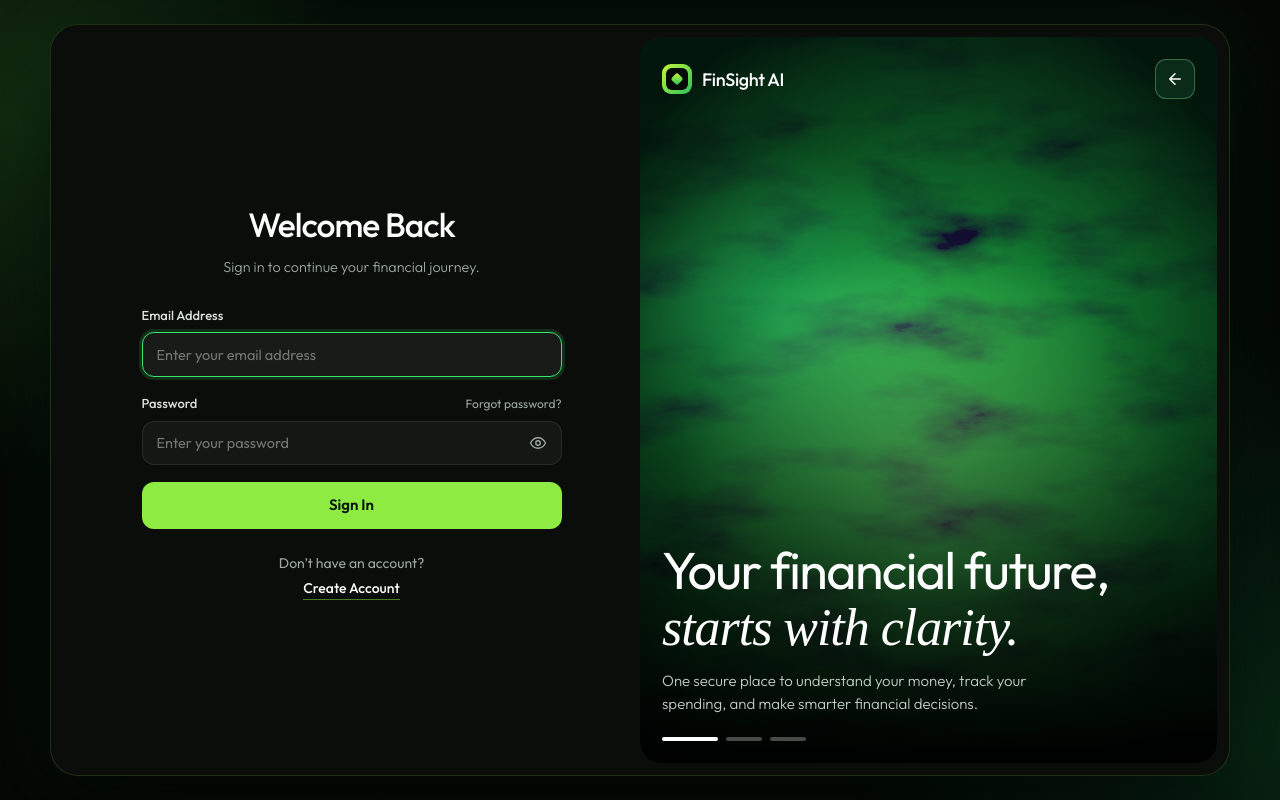
Frontend Authentication and User Management Pages › renders login form and handles invalid credentials
Check: the heading "Welcome Back" is shown, box x1=248 y1=203 x2=455 y2=246
Type "user@example.in" into the field with placeholder "Enter your email address" at x=352, y=355, box x1=142 y1=332 x2=562 y2=377
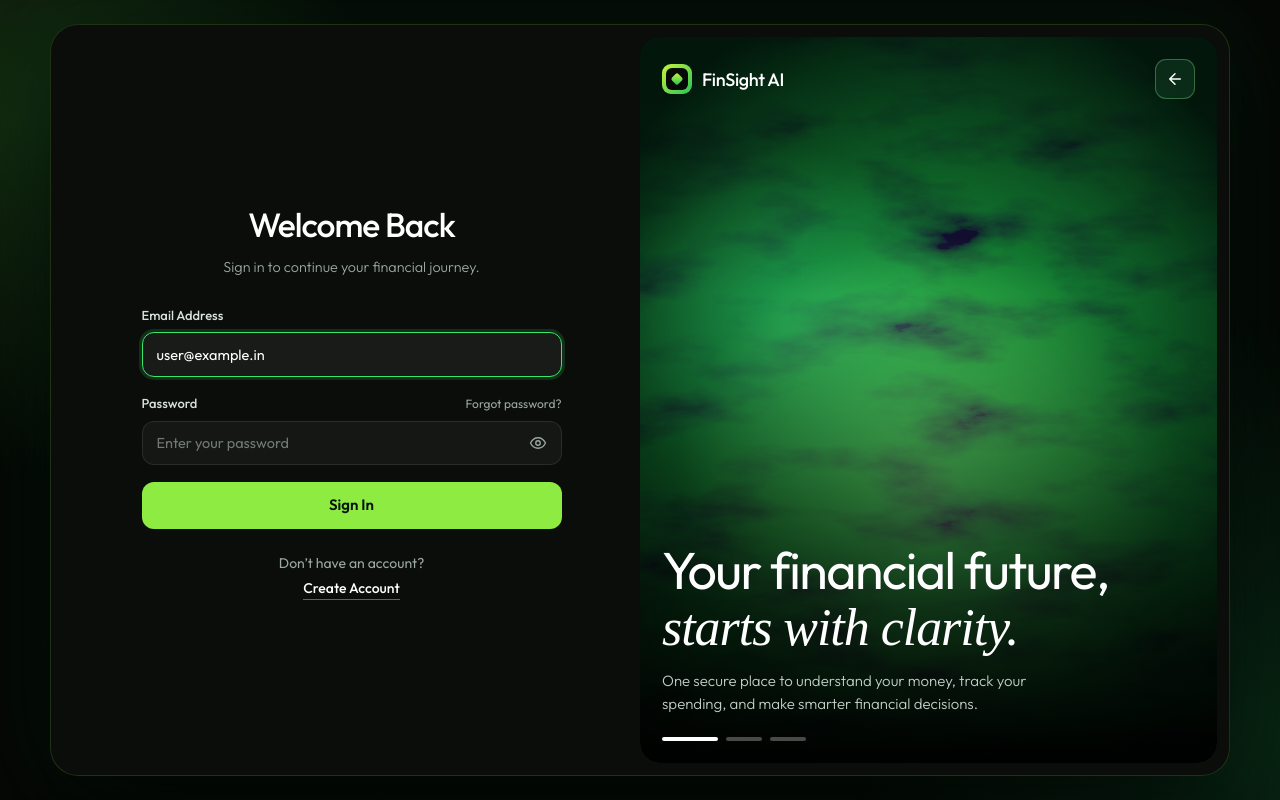
Type "wrongpass" into the password field with placeholder "Enter your password" at x=352, y=443, box x1=142 y1=421 x2=562 y2=465
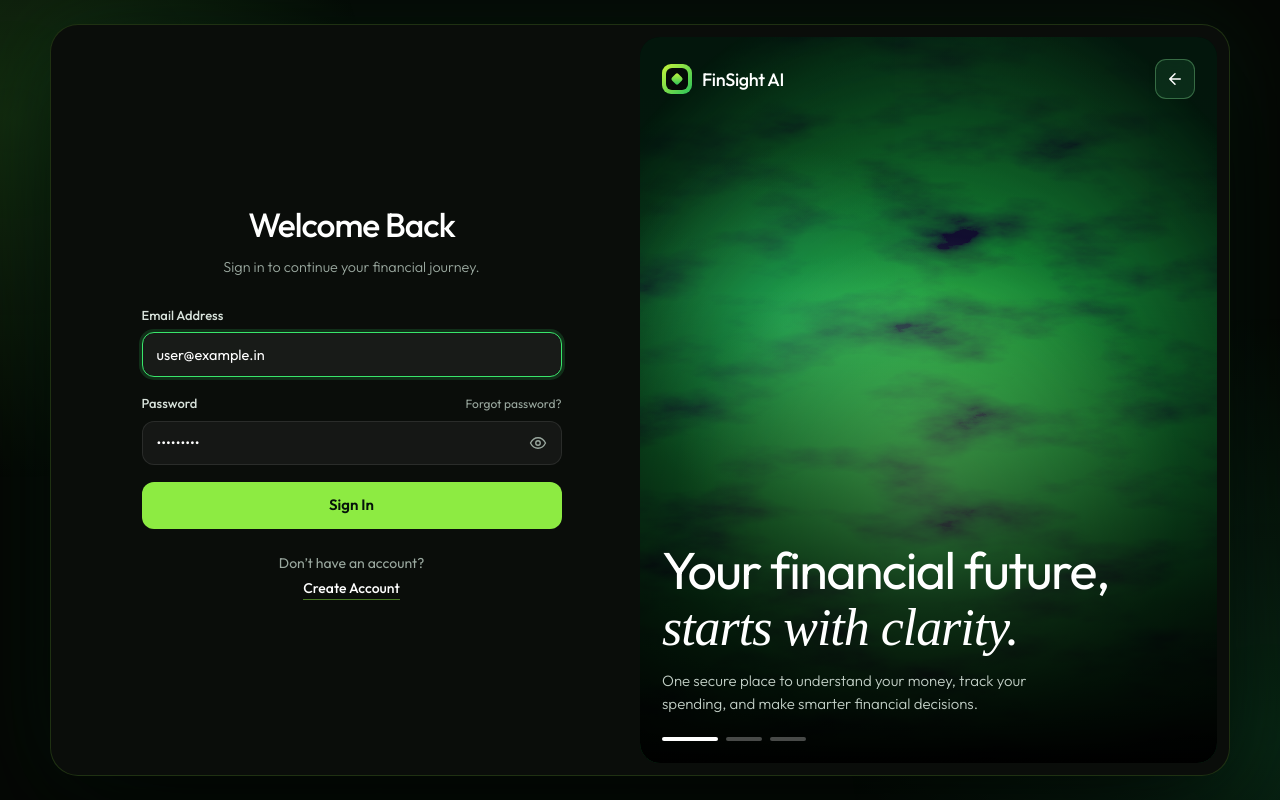
Click the button "Sign In" at x=352, y=505, box x1=142 y1=482 x2=562 y2=529
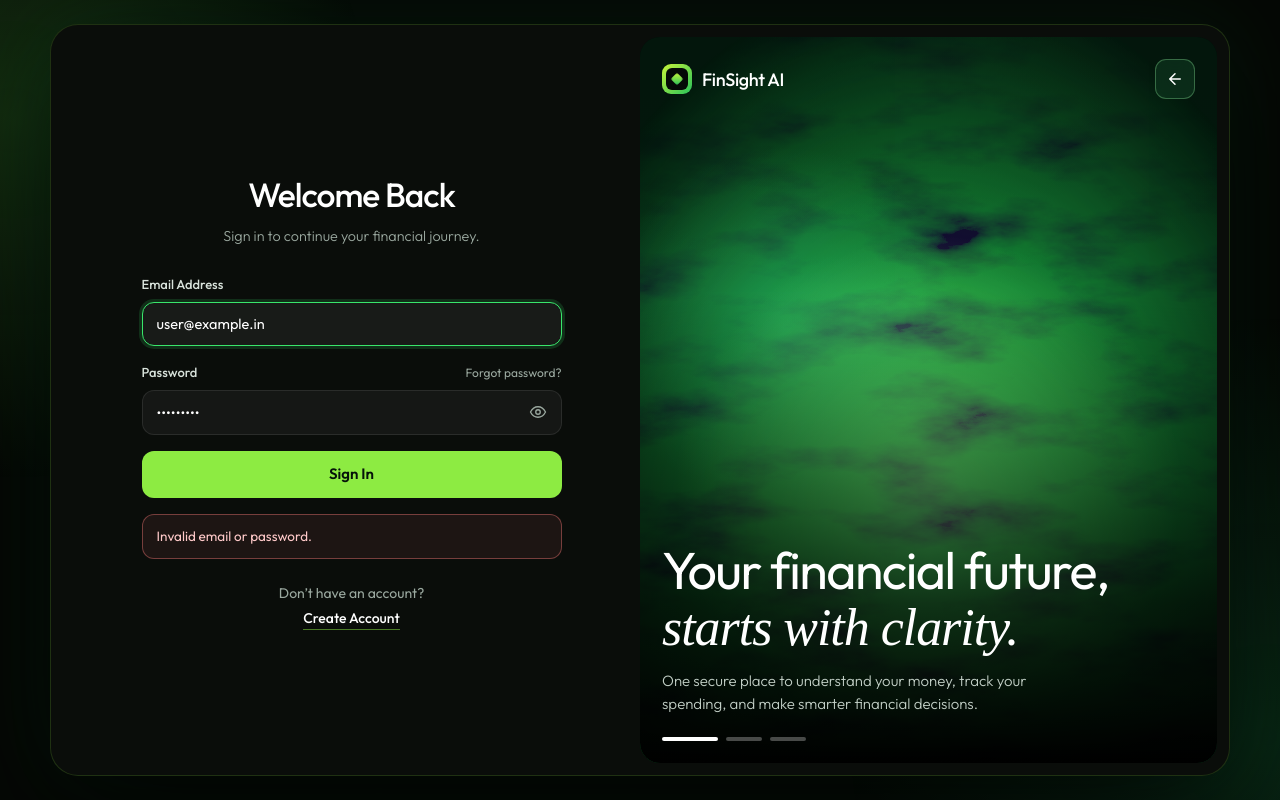
Check: the text "Invalid email or password." is shown, box x1=142 y1=514 x2=562 y2=559
